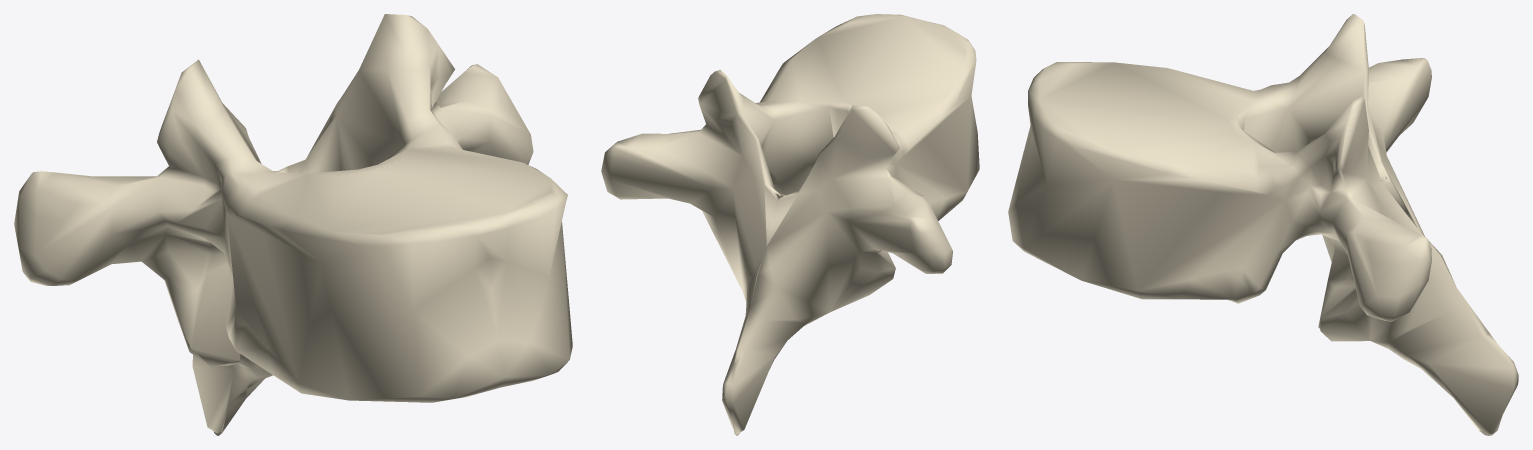
The model's file is esqueleto-vertebra-t8.glb.
The picture shows the model from 3 angles, left to right: view 1: azimuth 30°, elevation 25°; view 2: azimuth 150°, elevation 25°; view 3: azimuth 270°, elevation 25°; orthographic projection. The views are drawn at different scales.
Visible parts, largest first — view 1: Vertebra T8; view 2: Vertebra T8; view 3: Vertebra T8.
Boxes of the visible parts, <box> form: Vertebra T8: <box>14,14,572,435</box>; Vertebra T8: <box>601,14,979,435</box>; Vertebra T8: <box>1008,14,1518,435</box>.
Bounding box in the file's own units: 0.0699 × 0.0602 × 0.0737.
